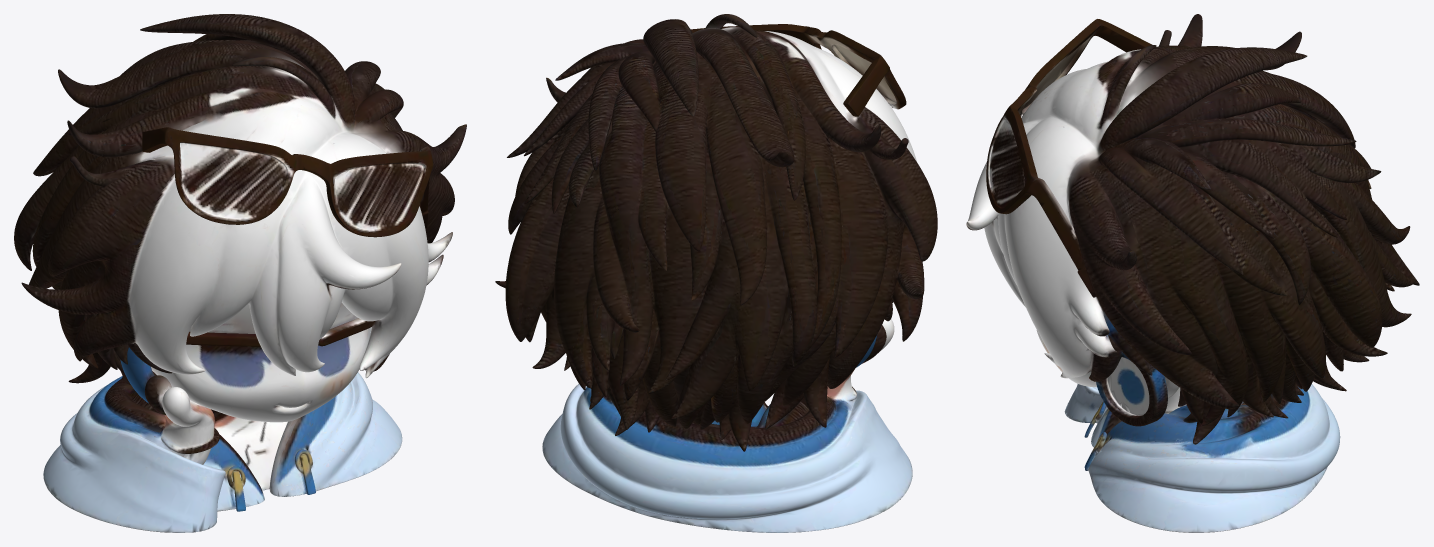
Rendered from avatar.glb.
3 views of the same model, side by side, from view 1: azimuth 30°, elevation 25°; view 2: azimuth 150°, elevation 25°; view 3: azimuth 270°, elevation 25° (orthographic). The views are drawn at different scales.
Visible parts, largest first — view 1: node_0; view 2: node_0; view 3: node_0.
Part boxes in pixels (<box>): node_0: <box>14,14,466,532</box>; node_0: <box>495,14,937,532</box>; node_0: <box>966,14,1419,532</box>.
Bounding box in the file's own units: 0.9202 × 0.9197 × 0.9094.
Materials: 1 (1 with a texture image).
